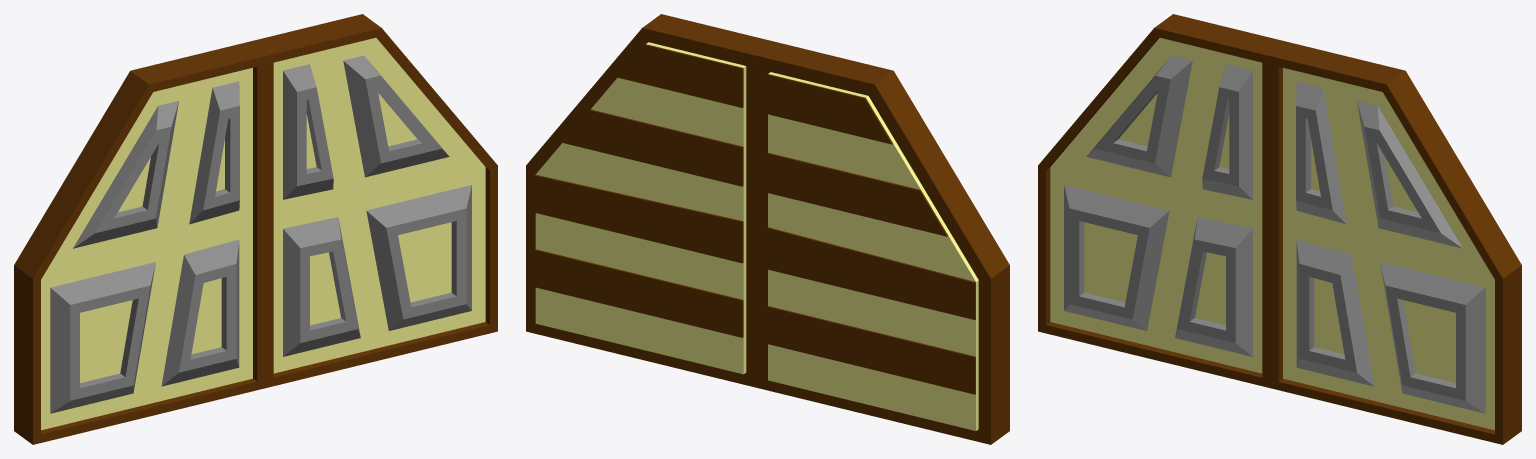
The model's file is kapıloar.fbx.
3 views of the same model, side by side, from view 1: azimuth 30°, elevation 25°; view 2: azimuth 150°, elevation 25°; view 3: azimuth 330°, elevation 25° (orthographic).
Parts seen in each view (by area): view 1: Mesh13, Mesh12; view 2: Mesh13, Mesh12; view 3: Mesh12, Mesh13.
Part boxes in pixels (bbox=[...]): Mesh13: bbox=[14, 42, 265, 444]; Mesh12: bbox=[247, 14, 497, 388]; Mesh13: bbox=[758, 42, 1009, 444]; Mesh12: bbox=[526, 14, 776, 388]; Mesh12: bbox=[1270, 42, 1521, 444]; Mesh13: bbox=[1038, 14, 1288, 388].
Bounding box in the file's own units: 13159 × 8979 × 1259.
